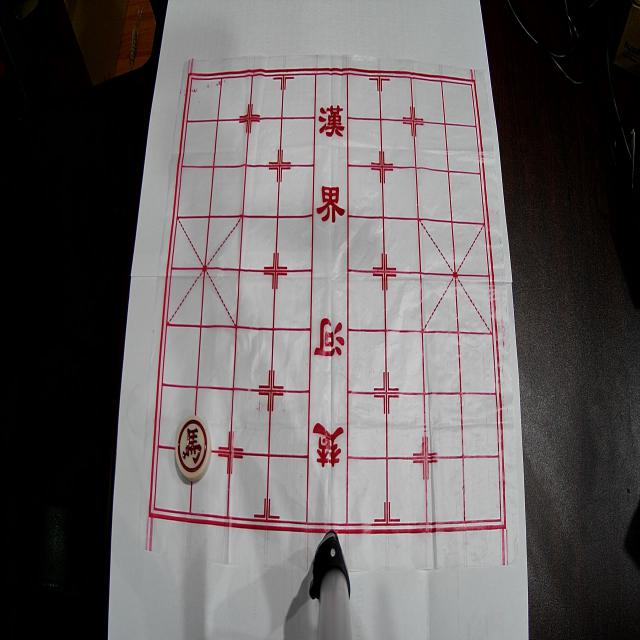red-horse: (176, 415, 212, 481)
